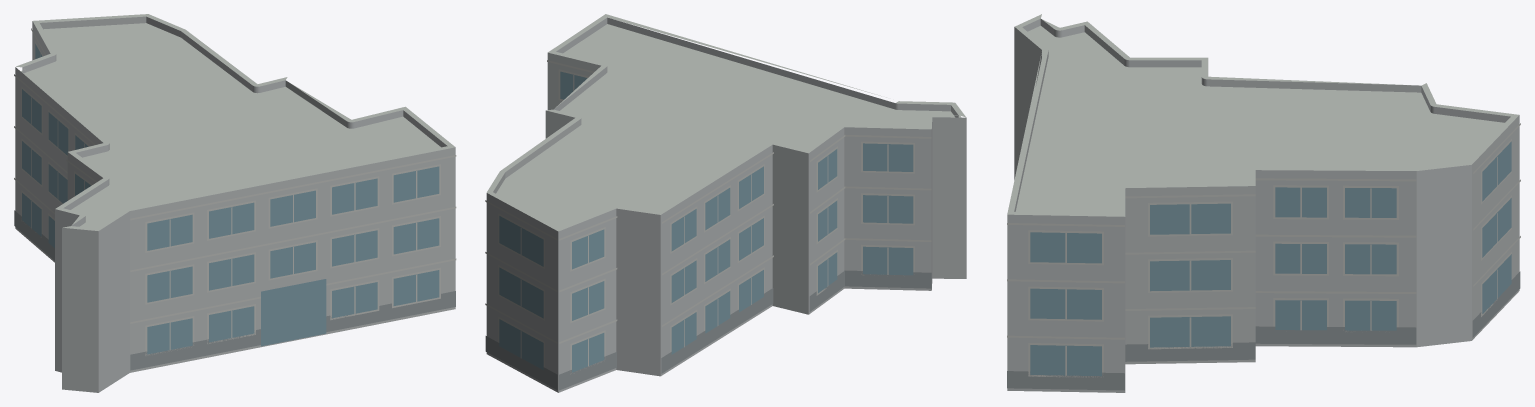
File: public-028f8bf7-c1c1-43be-ada8-b9fd9a35b06d.glb
The picture shows the model from 3 angles, left to right: view 1: azimuth 30°, elevation 25°; view 2: azimuth 150°, elevation 25°; view 3: azimuth 270°, elevation 25°; orthographic projection. The views are drawn at different scales.
Visible parts, largest first — view 1: public-028f8bf7-c1c1-43be-ada8-b9fd9a35b06d; view 2: public-028f8bf7-c1c1-43be-ada8-b9fd9a35b06d; view 3: public-028f8bf7-c1c1-43be-ada8-b9fd9a35b06d.
Boxes of the visible parts, x1,y1,x2,y2 form: public-028f8bf7-c1c1-43be-ada8-b9fd9a35b06d: [14, 14, 456, 392]; public-028f8bf7-c1c1-43be-ada8-b9fd9a35b06d: [485, 14, 966, 392]; public-028f8bf7-c1c1-43be-ada8-b9fd9a35b06d: [1007, 14, 1520, 392].
Bounding box in the file's own units: 22.66 × 9.15 × 24.76.
